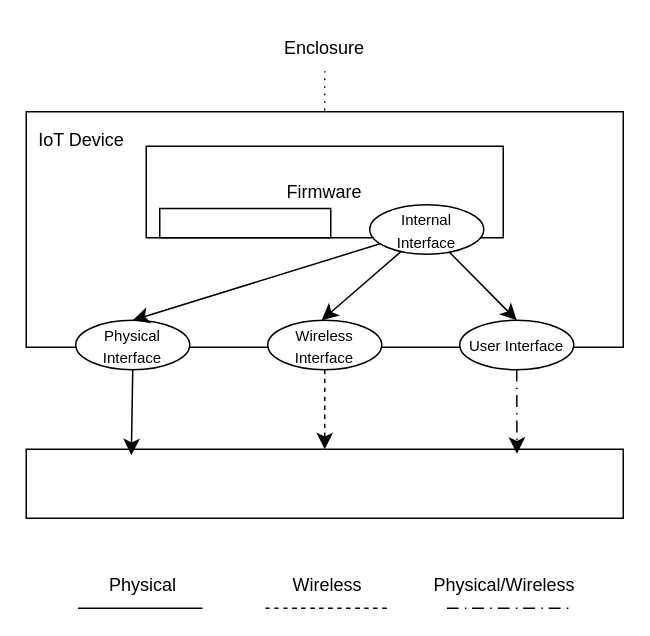
This 650x636 diagram has some shape labels left out. The centre of each missing label's shape, as x and y in pixels:
"Data Exchange Service" belongs at (x=244, y=222).
"IoT Ecosystem" belongs at (x=324, y=483).
